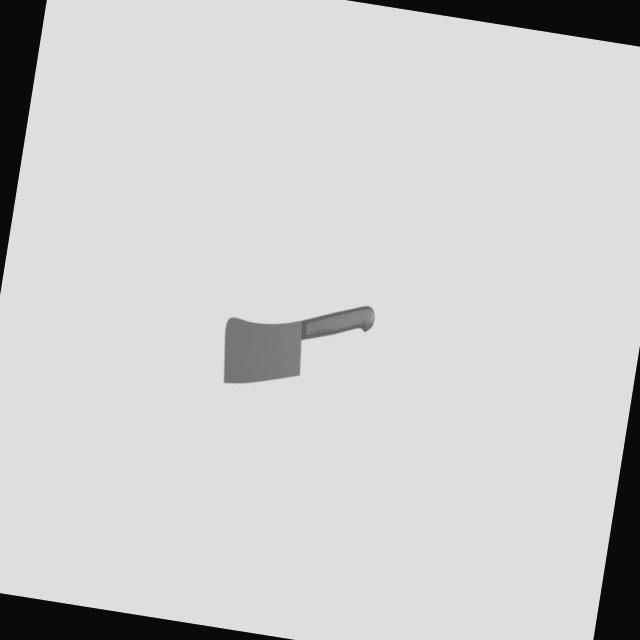knife: (298, 296, 376, 352)
